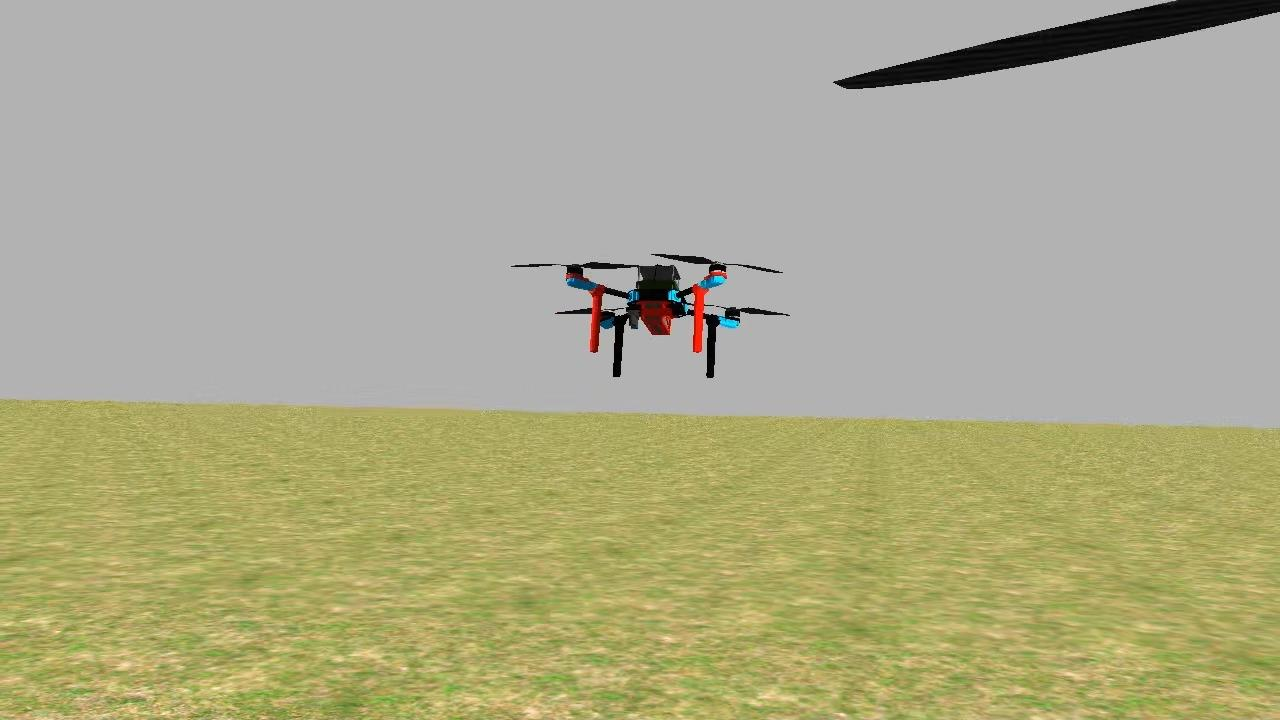UAV: (534, 240, 761, 400)
